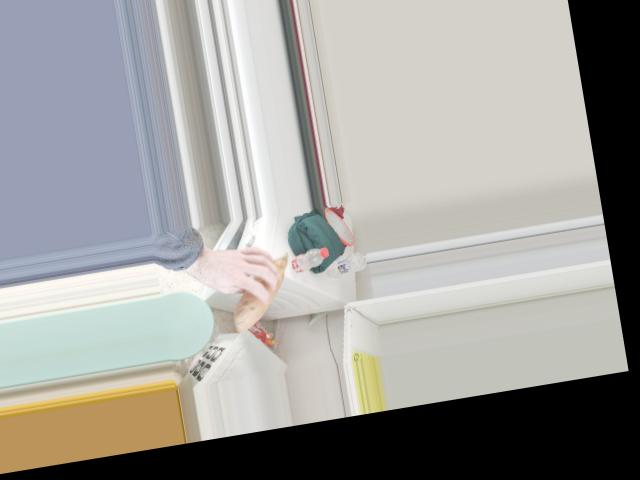sweet_potato: (225, 248, 296, 328)
